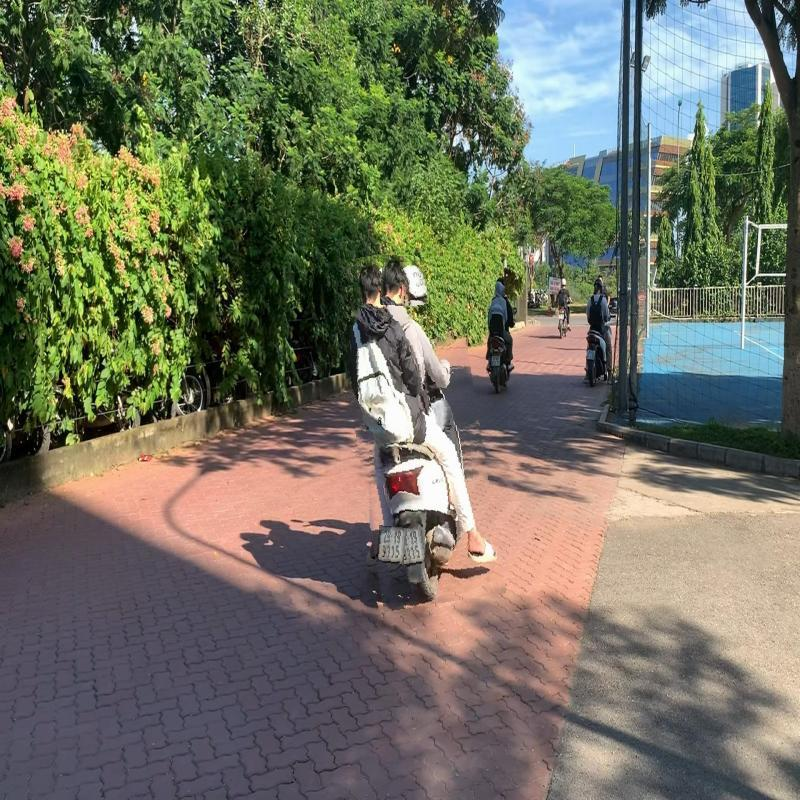helmet: (402, 260, 428, 306)
licenseplate: (378, 526, 406, 564)
motorcyclist: (342, 248, 493, 608)
nohelmet: (381, 256, 411, 306)
